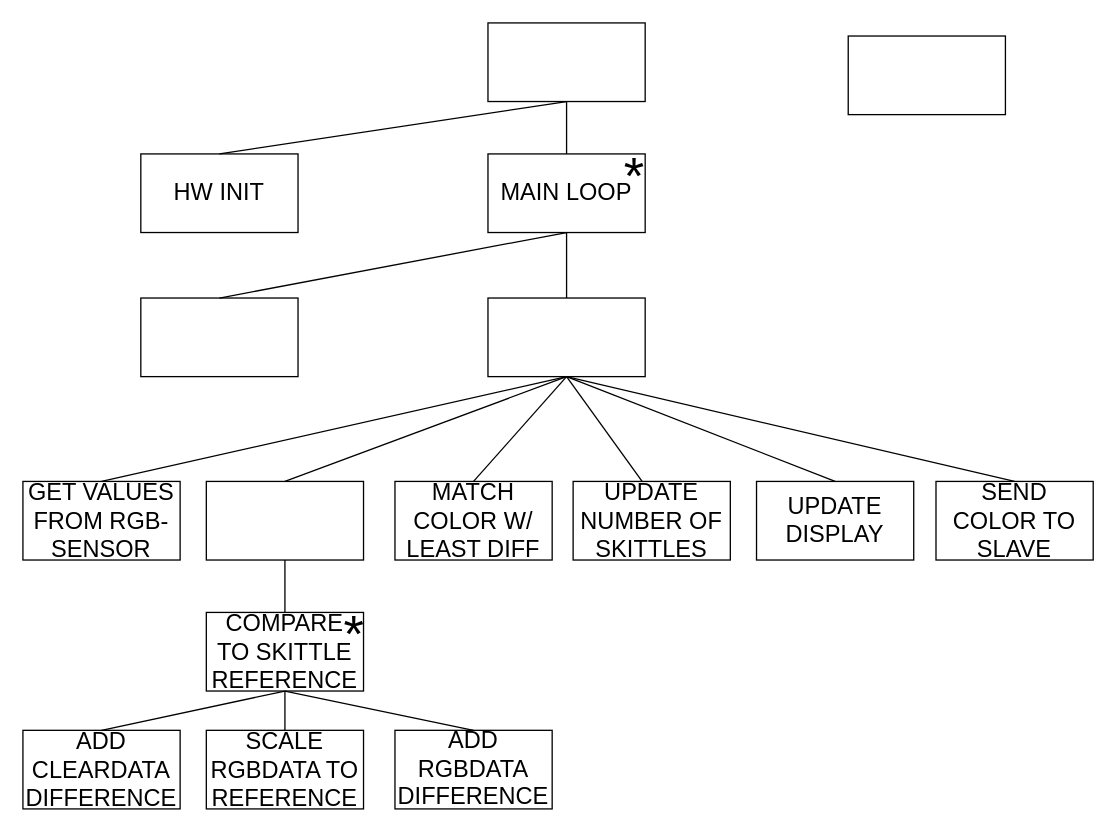
This 1116x836 diagram has some shape labels left out. Here are the shapes that lost their labels. From the top down, the centre of each, then its label:
At point (566, 62): "START".
At point (926, 75): "µC#1".
At point (219, 337): "WAIT FOR INTERRUPT".
At point (566, 337): "INT0 FROM SLAVE".
At point (284, 520): "COMPARE VALUES".
